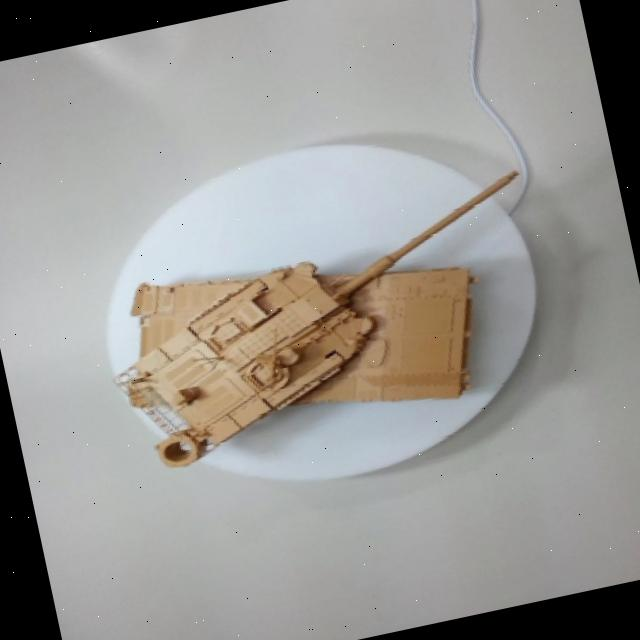korea tank: (56, 80, 568, 532)
